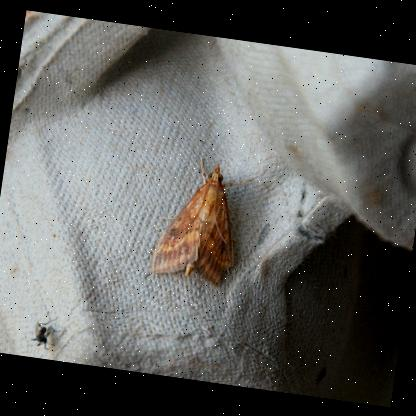Asian Corn Borer Moth: (146, 150, 256, 290)
